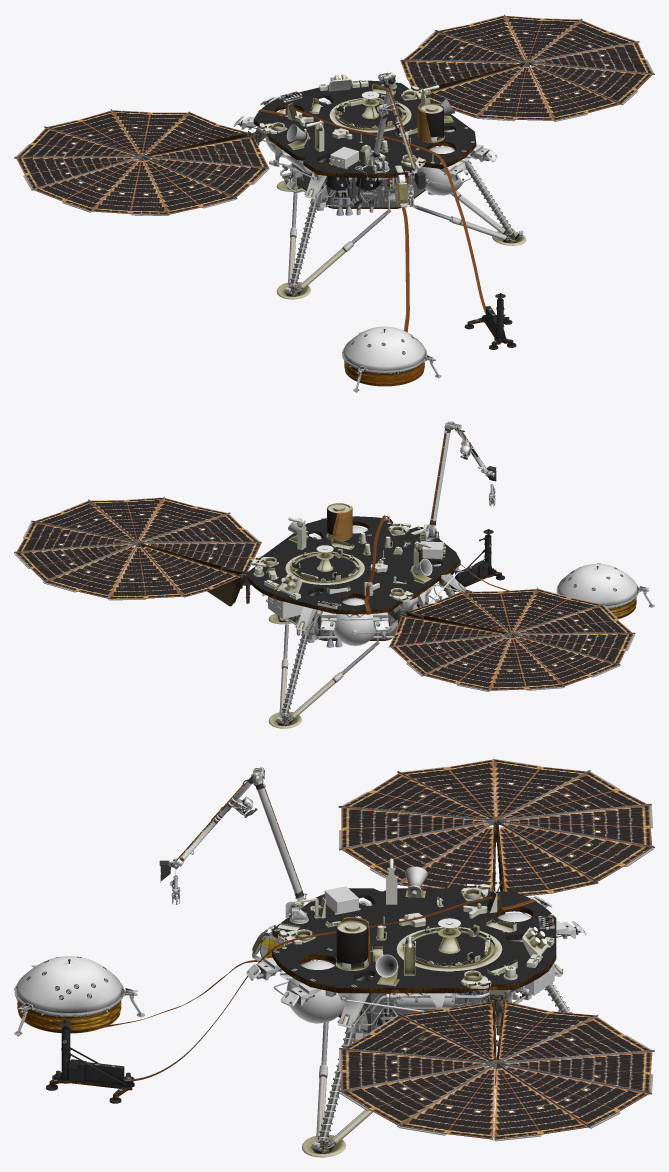
Rendered from sc_commercial_lander.glb.
3 renders of one model, top to bottom at view 1: azimuth 30°, elevation 25°; view 2: azimuth 150°, elevation 25°; view 3: azimuth 270°, elevation 25°, orthographic. The views are drawn at different scales.
Visible parts, largest first — view 1: insight_deployed; view 2: insight_deployed; view 3: insight_deployed.
Boxes of the visible parts, x1,y1,x2,y2 form: insight_deployed: [14, 14, 654, 392]; insight_deployed: [14, 421, 654, 728]; insight_deployed: [14, 757, 654, 1157].
Bounding box in the file's own units: 1.57 × 0.5585 × 1.11.
12 materials, 10 textured.
